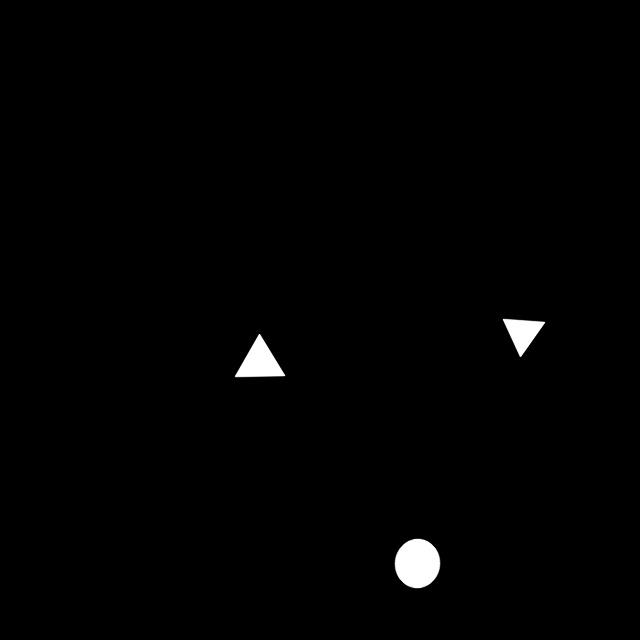Circle: (387, 527, 451, 597)
Triangle: (221, 315, 302, 402), (494, 310, 550, 365)
